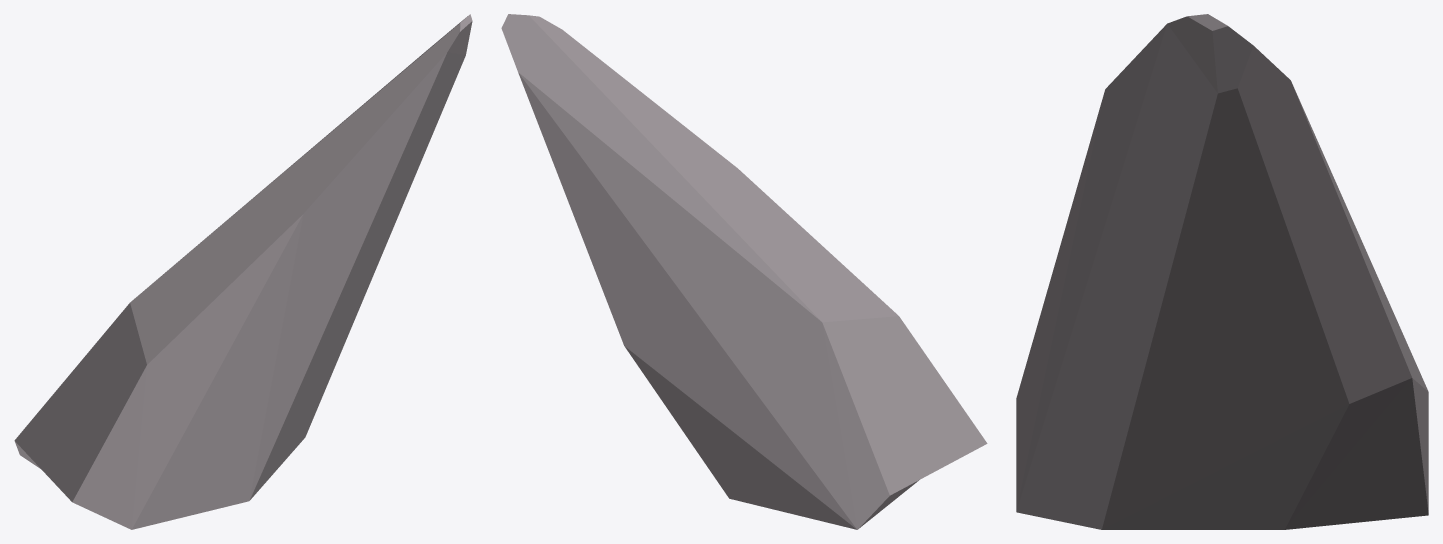
Rendered from Rock_Sharp_m_10.fbx.
The picture shows the model from 3 angles, left to right: view 1: azimuth 30°, elevation 25°; view 2: azimuth 150°, elevation 25°; view 3: azimuth 270°, elevation 25°; orthographic projection. The views are drawn at different scales.
Parts seen in each view (by area): view 1: Rock_Sharp_m_10; view 2: Rock_Sharp_m_10; view 3: Rock_Sharp_m_10.
Boxes of the visible parts, left/top/right/bottom form: Rock_Sharp_m_10: left=14, top=14, right=472, bottom=529; Rock_Sharp_m_10: left=501, top=14, right=987, bottom=529; Rock_Sharp_m_10: left=1016, top=14, right=1428, bottom=529.
Size of the model in its own units: 2.18 by 1.81 by 0.9.
